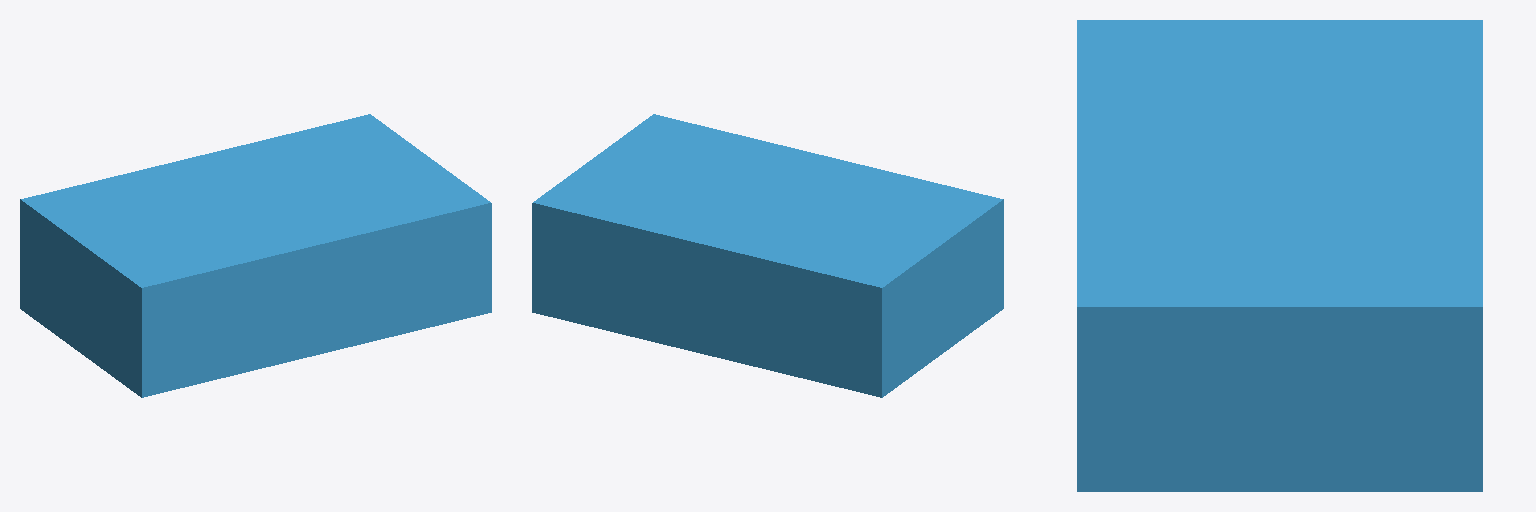
The robot description file, URDF, robot "range_lowrate_device":
<?xml version="1.0" ?>
<robot name="range_lowrate_device">
  <link name="mount" />
  <joint name="sensor_joint" type="fixed">
    <parent link="mount" /><child link="sensor_link" />
    <origin xyz="0 0 0.01" rpy="0 0 0" />
  </joint>
  <link name="sensor_link">
    <visual><origin xyz="0 0 0" rpy="0 0 0" /><geometry><box size="0.02 0.012 0.006" /></geometry></visual>
    <collision><origin xyz="0 0 0" rpy="0 0 0" /><geometry><box size="0.02 0.012 0.006" /></geometry></collision>
    <inertial><origin xyz="0 0 0" rpy="0 0 0" /><mass value="0.003" /><inertia ixx="0.00000004" ixy="0.0" ixz="0.0" iyy="0.00000010" iyz="0.0" izz="0.00000012" /></inertial>
  </link>
</robot>

--- Render facts (derived) ---
The picture shows the robot from 3 angles, left to right: view 1: azimuth 30°, elevation 25°; view 2: azimuth 150°, elevation 25°; view 3: azimuth 270°, elevation 25°; orthographic projection.
Robot: range_lowrate_device — 2 links, 1 joints (1 fixed); root link mount; default pose: all joints at 0.
Visible links, largest first — view 1: sensor_link; view 2: sensor_link; view 3: sensor_link.
Boxes of the visible links, x1,y1,x2,y2 form: sensor_link: (20,114,491,397); sensor_link: (532,114,1003,397); sensor_link: (1077,20,1482,491).
Bounding box of the posed robot: 0.02 × 0.012 × 0.006 m (x, y, z).
Geometry: primitives only (box / cylinder / sphere), no mesh files.
